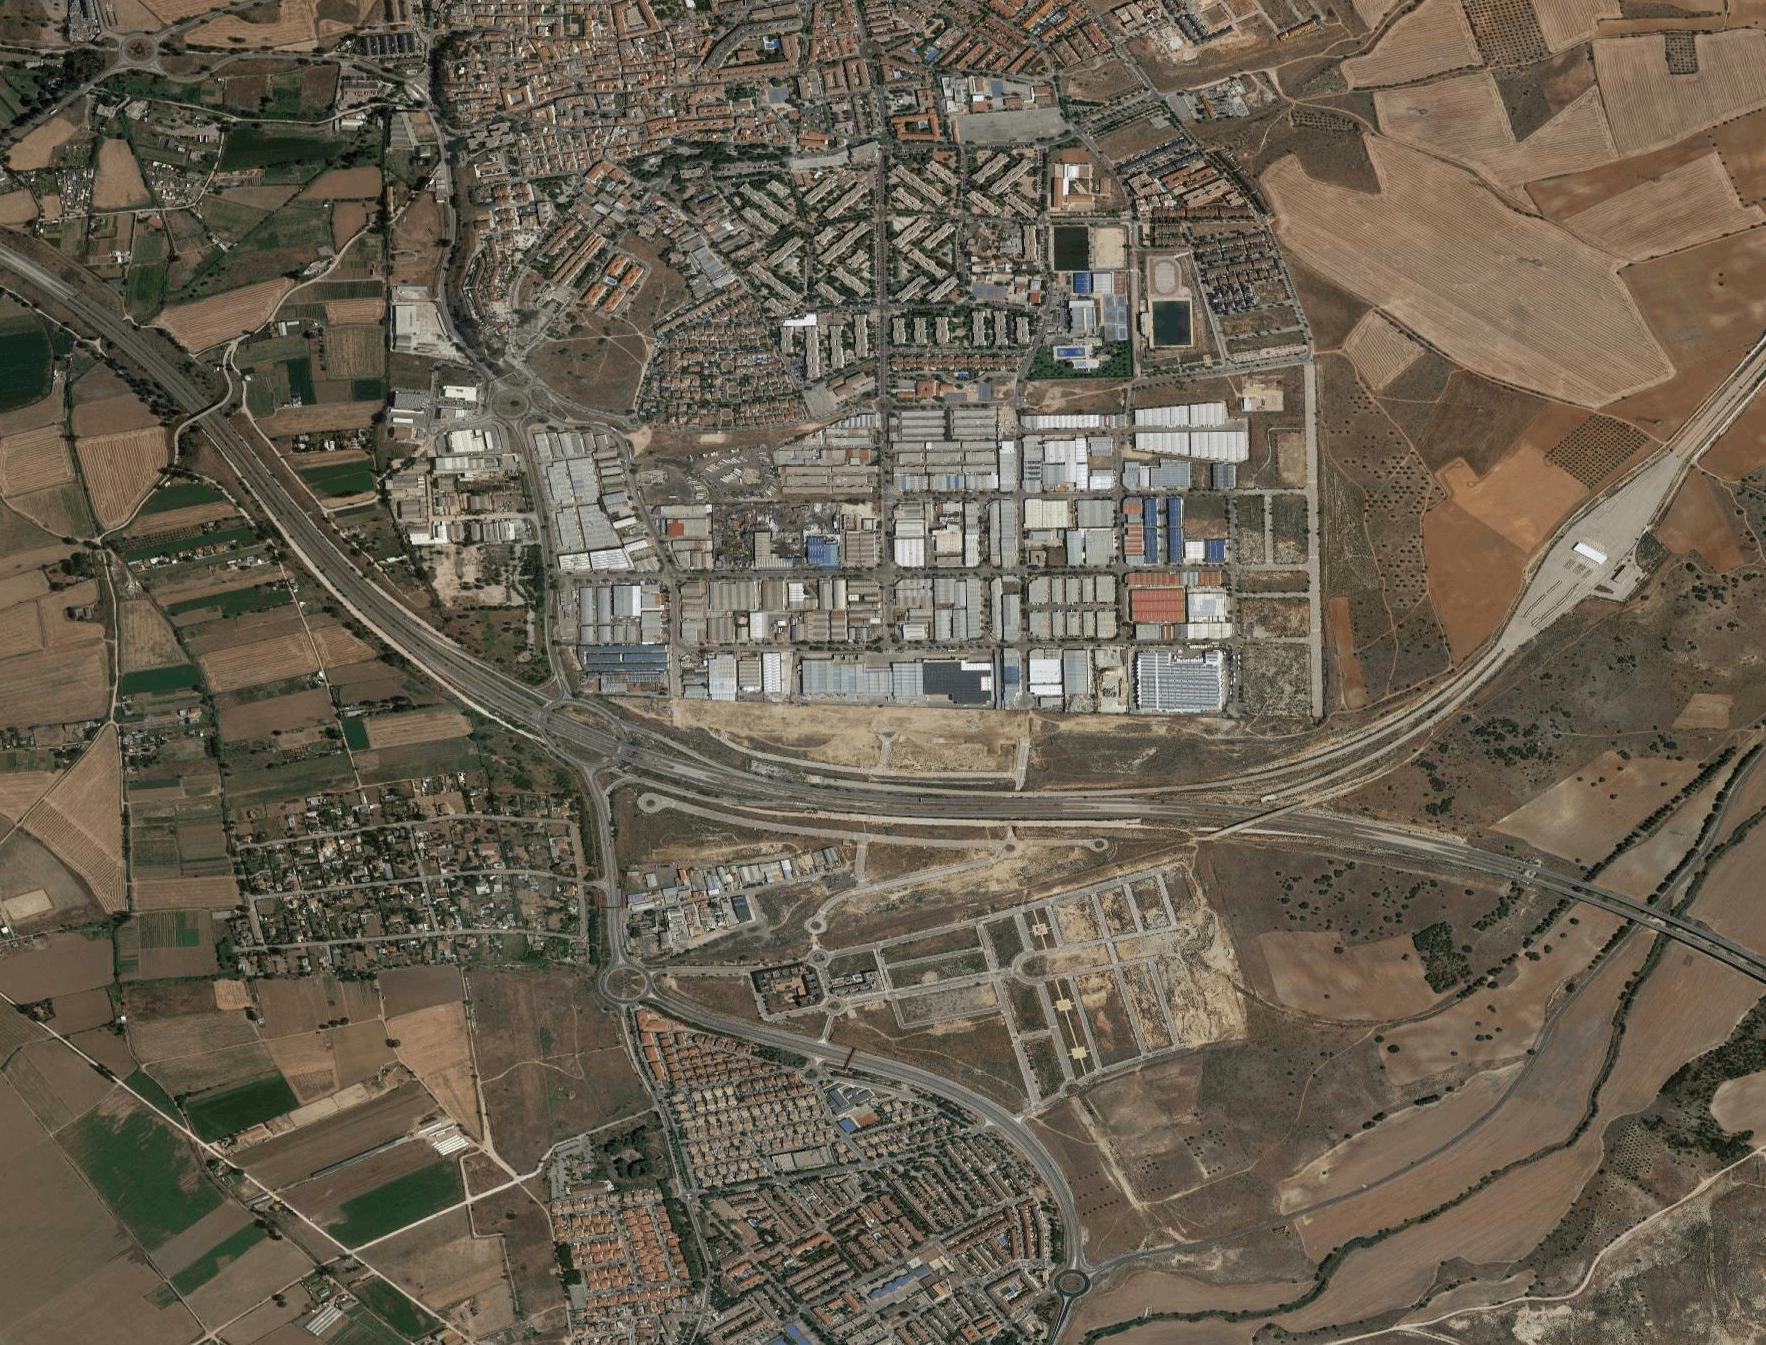industrial: (550, 394, 1257, 713)
motorway: (218, 441, 432, 677), (1, 237, 250, 441), (434, 643, 709, 795), (1507, 846, 1766, 1009), (1119, 791, 1506, 889), (713, 754, 1120, 843), (887, 1053, 1071, 1219), (648, 978, 886, 1082), (567, 787, 651, 1016), (1033, 1221, 1094, 1345)
